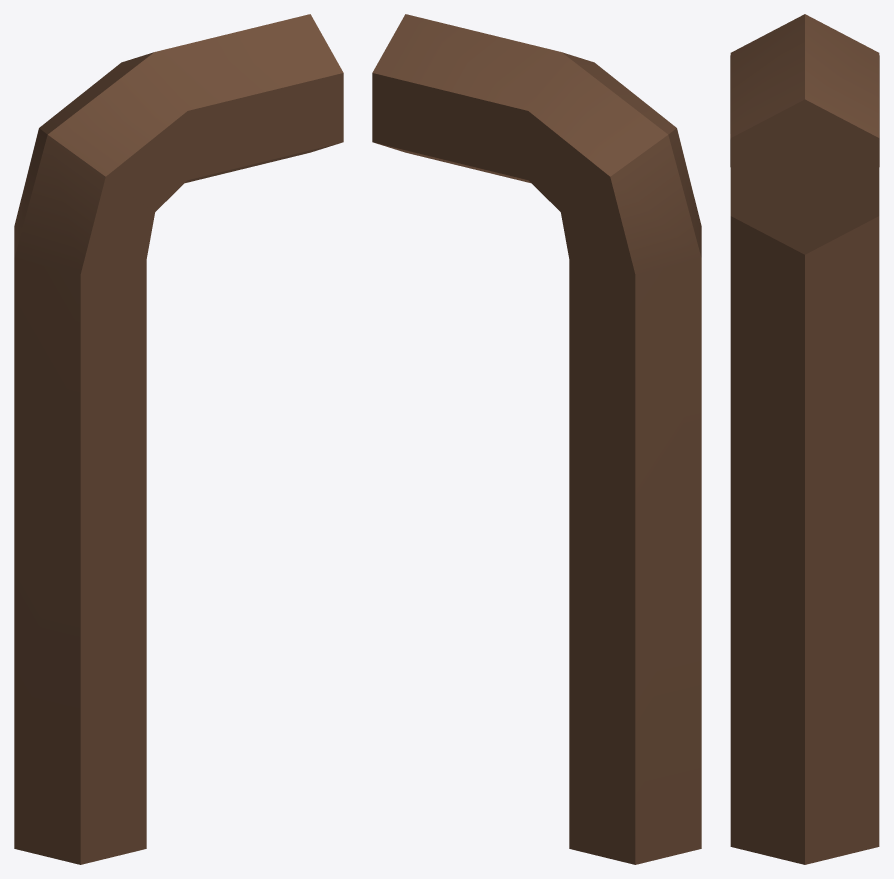
File: SM_Prop_DownPipe_End_01.fbx
3 views of the same model, side by side, from view 1: azimuth 30°, elevation 25°; view 2: azimuth 150°, elevation 25°; view 3: azimuth 270°, elevation 25° (orthographic). The views are drawn at different scales.
Parts seen in each view (by area): view 1: SM_Prop_DownPipe_End_01; view 2: SM_Prop_DownPipe_End_01; view 3: SM_Prop_DownPipe_End_01.
Part boxes in pixels (x1,y1,x2,y2): SM_Prop_DownPipe_End_01: (14, 14, 343, 864); SM_Prop_DownPipe_End_01: (372, 14, 701, 864); SM_Prop_DownPipe_End_01: (730, 14, 879, 864).
Size of the model in its own units: 44.71 by 110 by 17.45.
